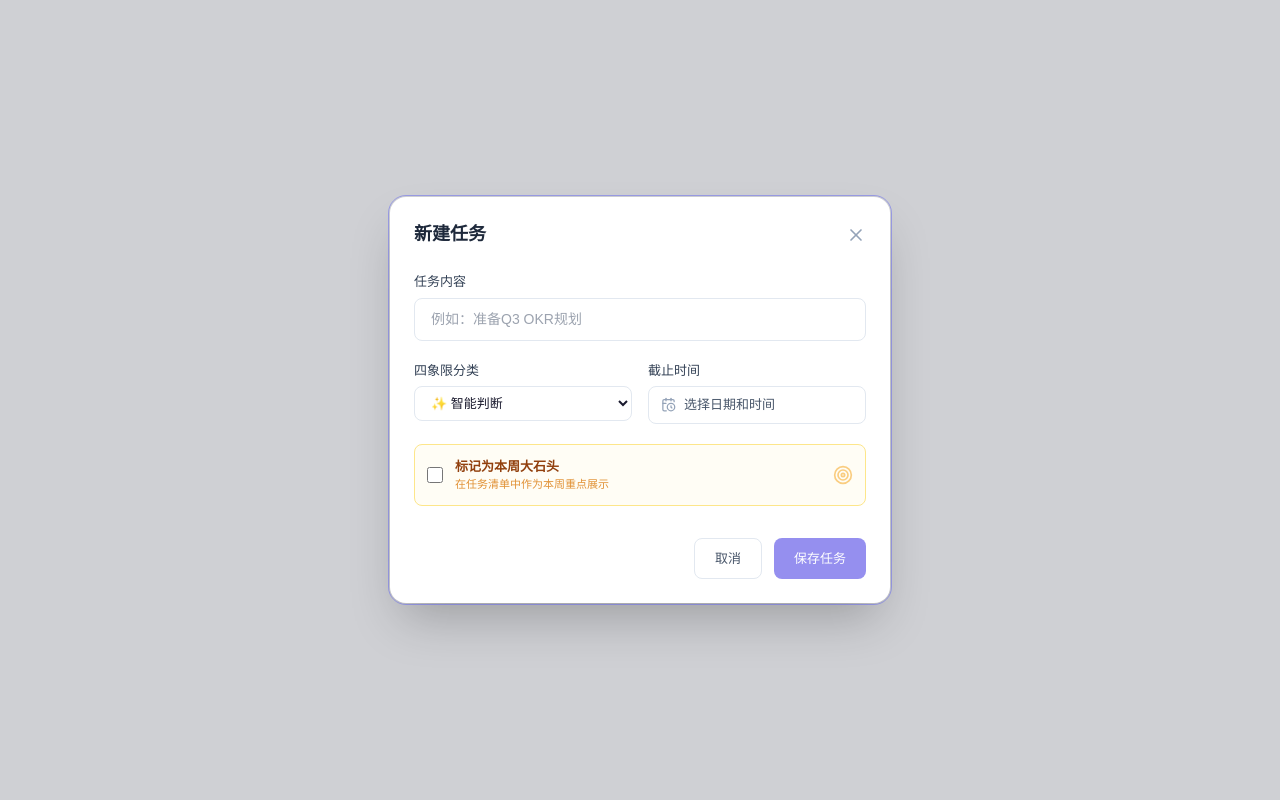
Test: TaskModal › 选择日期、小时和分钟后自动关闭时间选择弹窗
Click the button named "截止时间" at (757, 405), box [648,386,866,424]
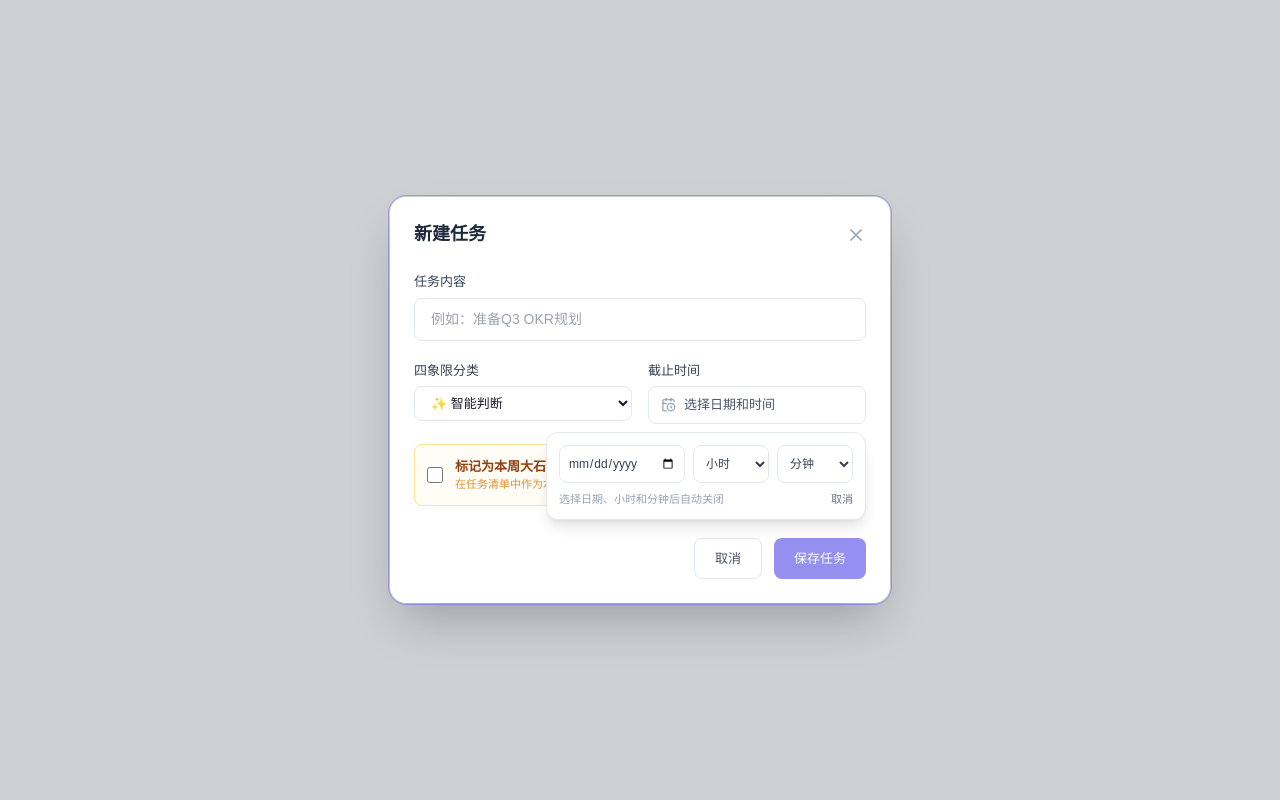
Expected: the dialog named "选择截止时间" is shown, [546,432,866,520]
Type "2026-08-01" into the date field named "截止日期" at (622, 464), box [559,444,685,482]
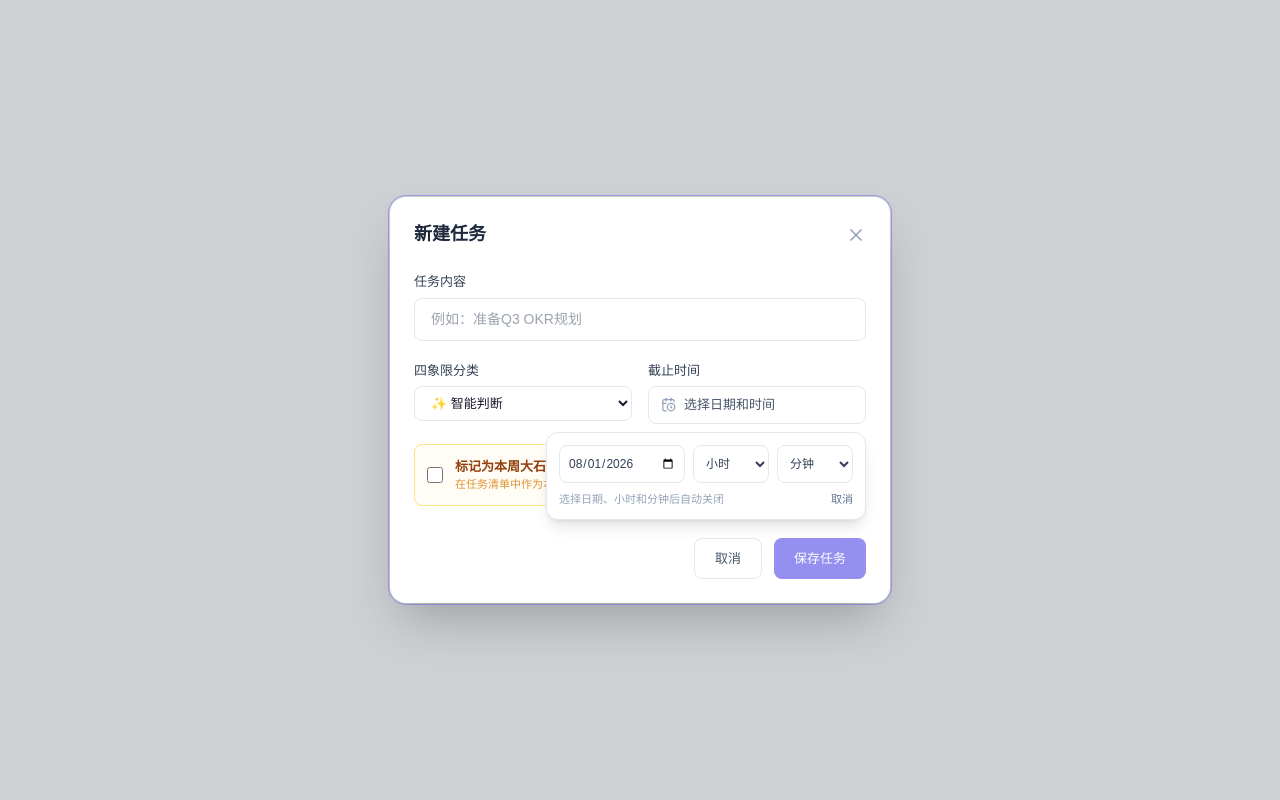
Select "00 时" in the dropdown named "截止小时" at (731, 464), box [693,444,769,482]
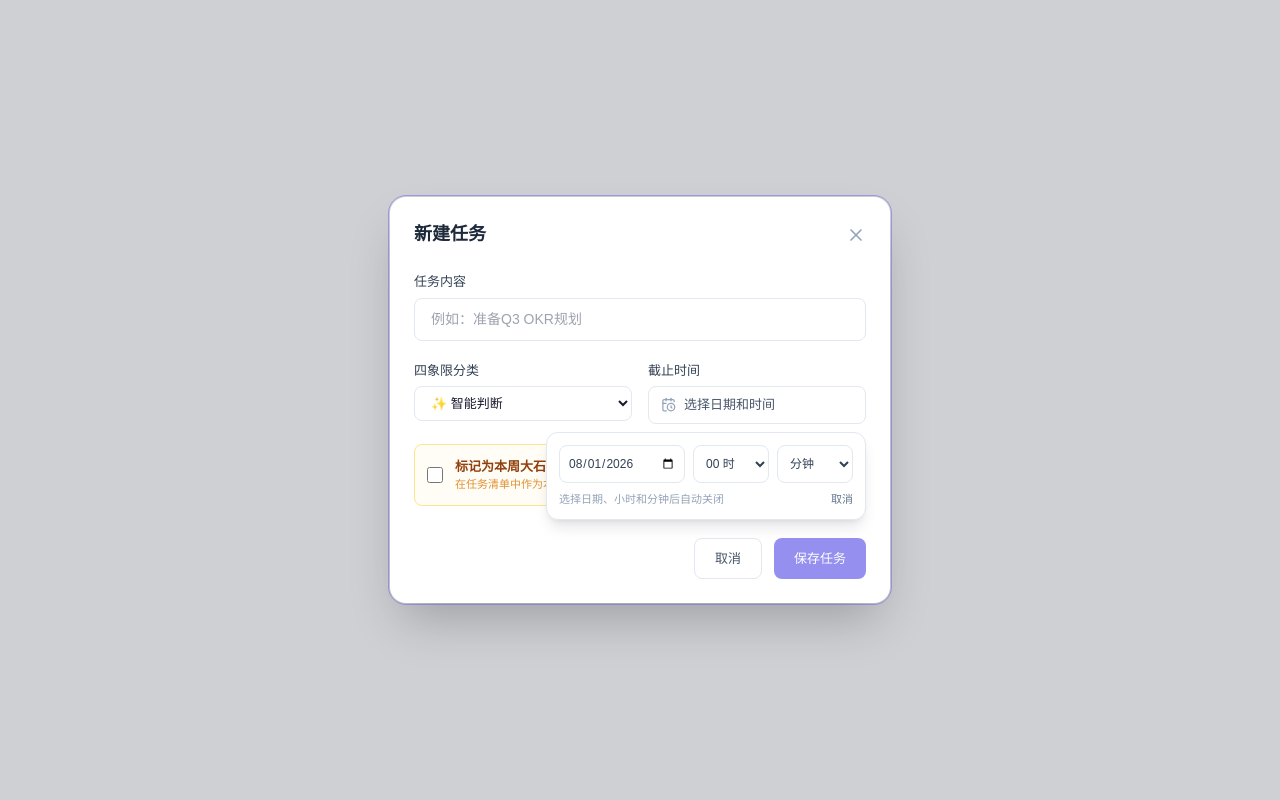
Expected: the dialog named "选择截止时间" is shown, [546,432,866,520]
Select "00 分" in the dropdown named "截止分钟" at (815, 464), box [777,444,853,482]
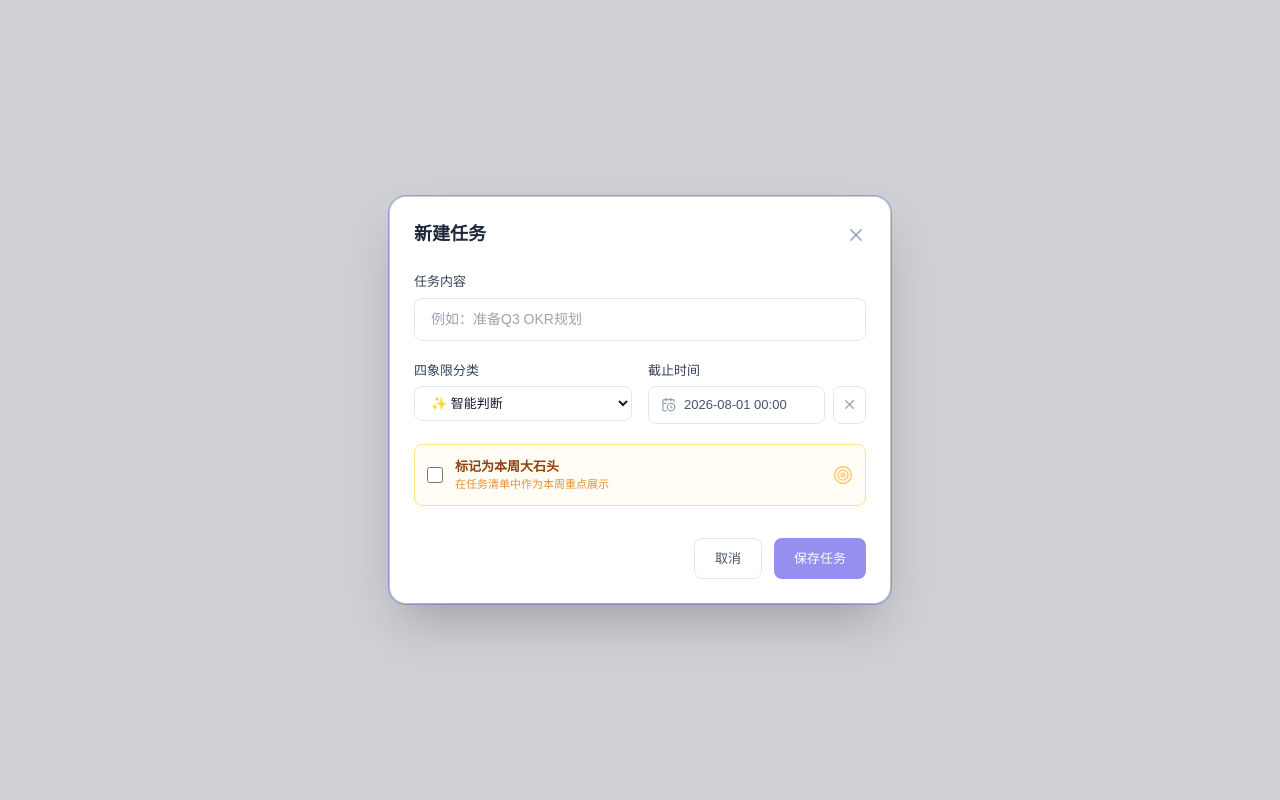
Expected: the dialog "选择截止时间" is gone
Expected: the button named "截止时间" reads "2026-08-01 00:00", [648,386,825,424]
